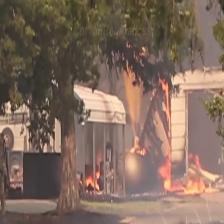fire: (115, 58, 217, 205), (76, 156, 110, 196)
